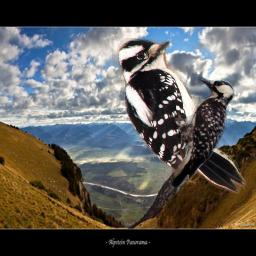Woodpecker: (117, 38, 246, 197), (167, 76, 242, 196)
